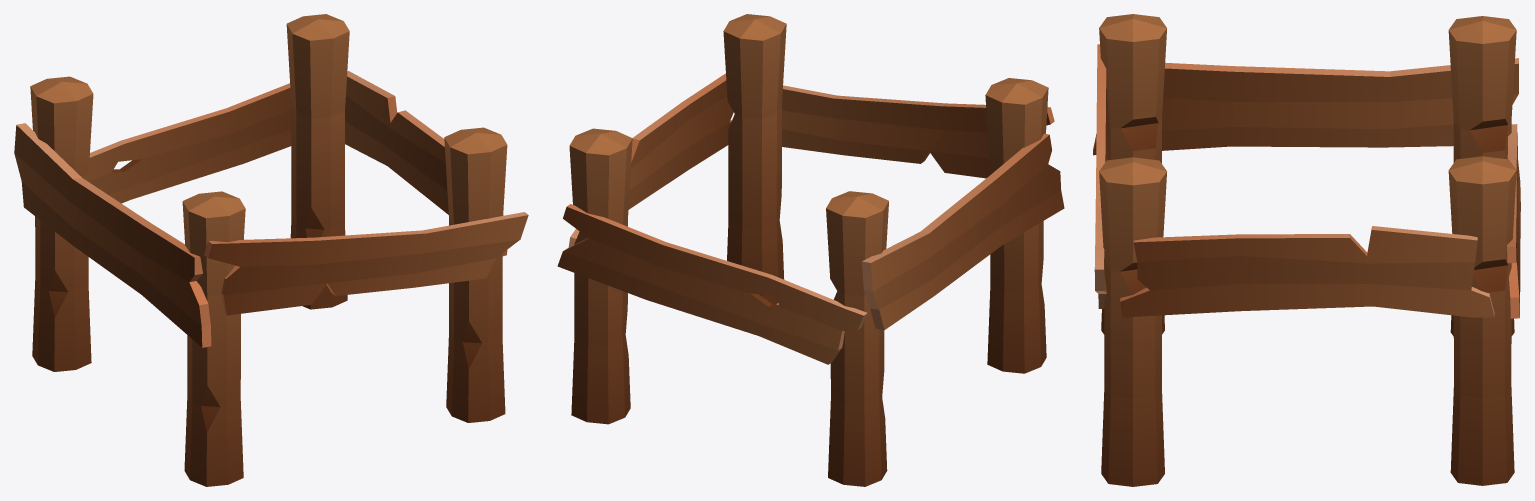
File: woodbase.glb
The picture shows the model from 3 angles, left to right: view 1: azimuth 30°, elevation 25°; view 2: azimuth 150°, elevation 25°; view 3: azimuth 270°, elevation 25°; orthographic projection. The views are drawn at different scales.
Parts seen in each view (by area): view 1: Cube; view 2: Cube; view 3: Cube.
Part boxes in pixels (<box>): Cube: <box>14,14,528,486</box>; Cube: <box>557,14,1064,486</box>; Cube: <box>1093,14,1520,486</box>.
Size of the model in its own units: 1.38 by 1.12 by 1.4.
Materials: 5 (5 with a texture image).
